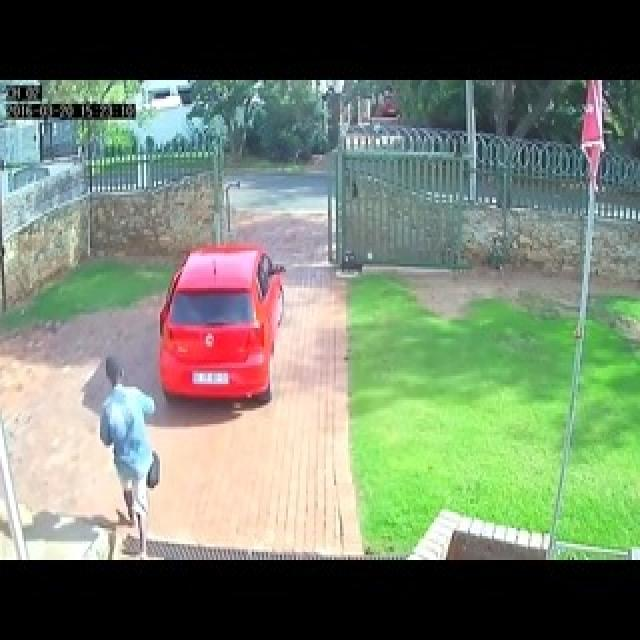thief: (97, 344, 151, 463)
